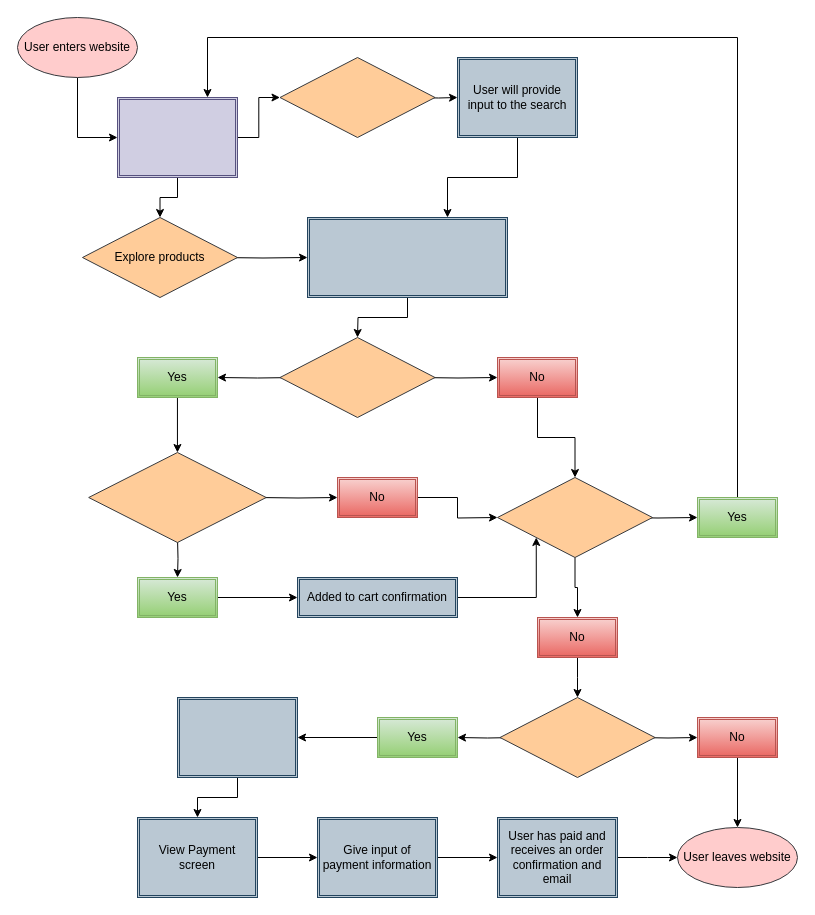
Image size: 815x915. Some labels were removed from this diagram. Each missing label, with the box of its shape:
Checkout?: (499, 696, 655, 778)
Continue shopping?: (496, 476, 652, 558)
Explore products or search for product?: (116, 96, 238, 178)
Product webpage opens. Add to cart?: (88, 452, 266, 542)
Search for a product: (279, 56, 435, 138)
User begins looking over products: (306, 216, 508, 298)
View a product?: (279, 336, 435, 418)
View cart screen: (176, 696, 298, 778)
